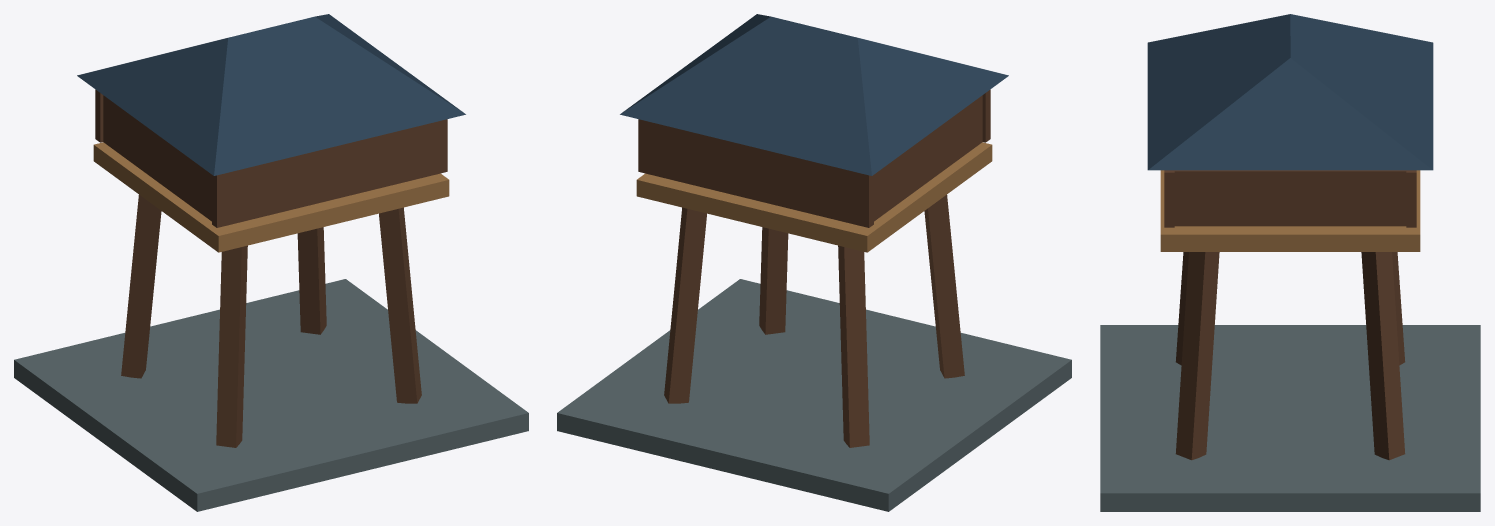
Rendered from PirateCove_Watchtower_Simple.glb.
3 views of the same model, side by side, from view 1: azimuth 30°, elevation 25°; view 2: azimuth 150°, elevation 25°; view 3: azimuth 270°, elevation 25° (orthographic). The views are drawn at different scales.
Parts seen in each view (by area): view 1: PirateCove_Watchtower_Simple; view 2: PirateCove_Watchtower_Simple; view 3: PirateCove_Watchtower_Simple.
Part boxes in pixels (x1,y1,x2,y2): PirateCove_Watchtower_Simple: (14, 14, 528, 511); PirateCove_Watchtower_Simple: (557, 14, 1071, 511); PirateCove_Watchtower_Simple: (1100, 14, 1480, 511).
Size of the model in its own units: 4.6 by 5 by 4.4.
